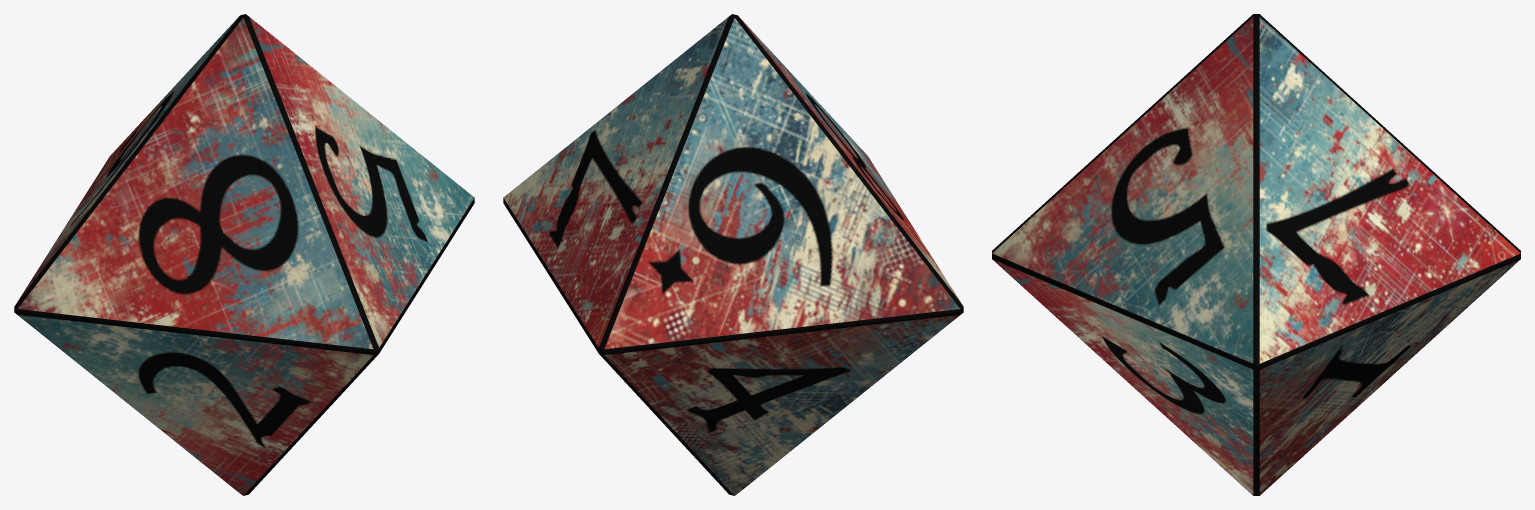
File: chanced8.glb
The picture shows the model from 3 angles, left to right: view 1: azimuth 30°, elevation 25°; view 2: azimuth 150°, elevation 25°; view 3: azimuth 270°, elevation 25°; orthographic projection.
Parts seen in each view (by area): view 1: Mesh_0; view 2: Mesh_0; view 3: Mesh_0.
Part boxes in pixels (box(x1,y1,x2,y2)): Mesh_0: box(14, 14, 474, 495); Mesh_0: box(503, 14, 963, 495); Mesh_0: box(992, 14, 1520, 495).
Size of the model in its own units: 196 by 196 by 196.
1 material, 1 textured.
